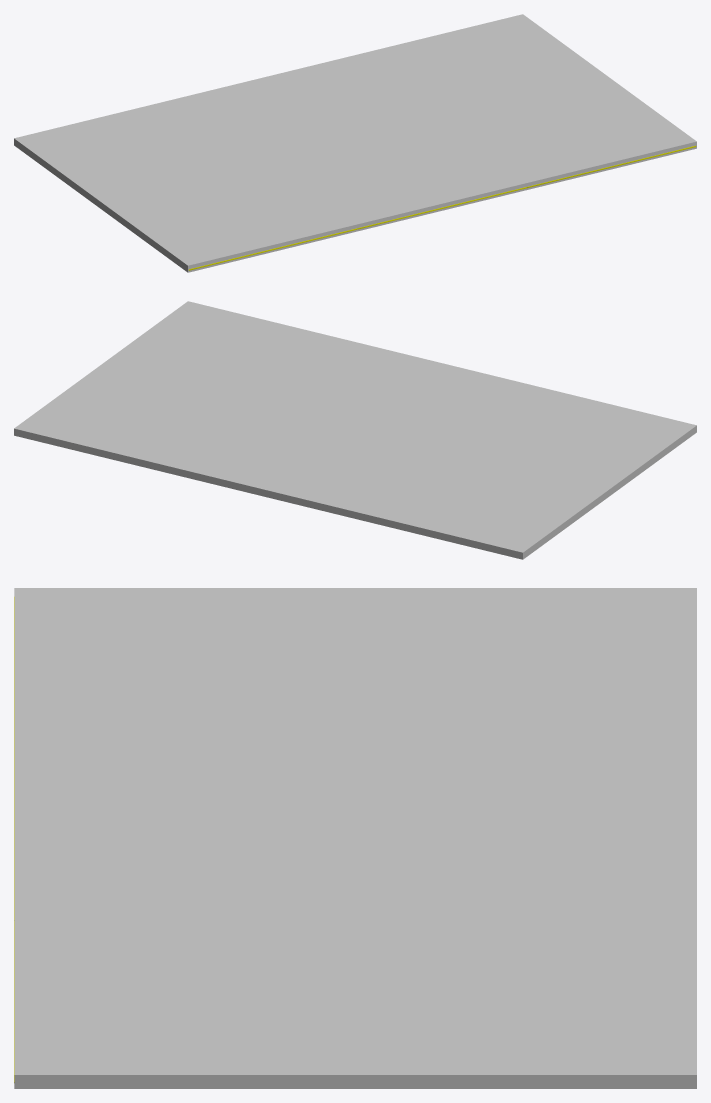
File: sm_hana_did_wall_screen.glb
The picture shows the model from 3 angles, top to bottom: view 1: azimuth 30°, elevation 25°; view 2: azimuth 150°, elevation 25°; view 3: azimuth 270°, elevation 25°; orthographic projection. The views are drawn at different scales.
Parts seen in each view (by area): view 1: sm_color_common, sm_hana_did_wall_screen; view 2: sm_color_common; view 3: sm_color_common.
Part boxes in pixels (box(x1,y1,x2,y2)): sm_color_common: box(14, 14, 696, 272); sm_hana_did_wall_screen: box(188, 145, 696, 270); sm_color_common: box(14, 301, 696, 559); sm_color_common: box(14, 588, 696, 1088).
Bounding box in the file's own units: 3.67 × 0.0488 × 2.17.
Materials: 2 (1 with a texture image).
